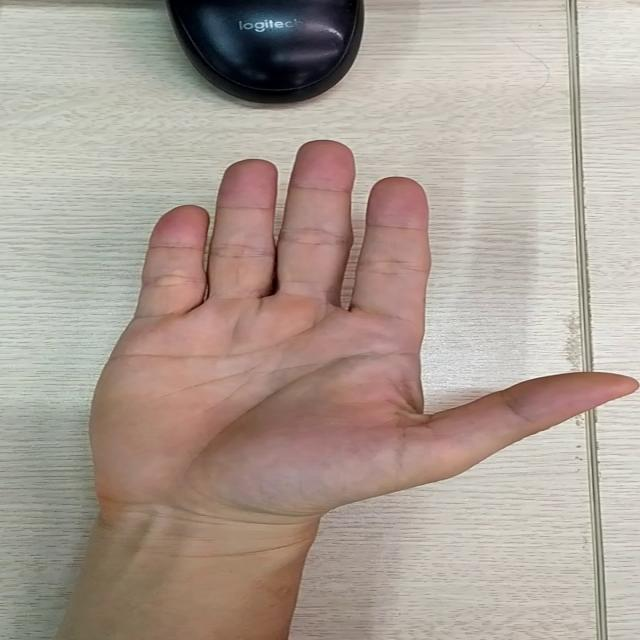hand: (133, 147, 621, 492)
